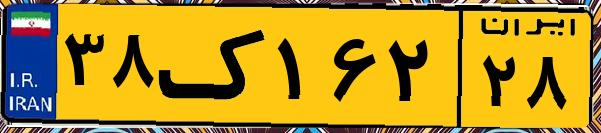1: (270, 28, 330, 110)
2: (385, 28, 445, 110), (475, 38, 525, 113)
3: (57, 26, 110, 100)
6: (330, 28, 385, 110)
8: (525, 38, 570, 115), (110, 28, 158, 98)
ک: (158, 12, 270, 120)
